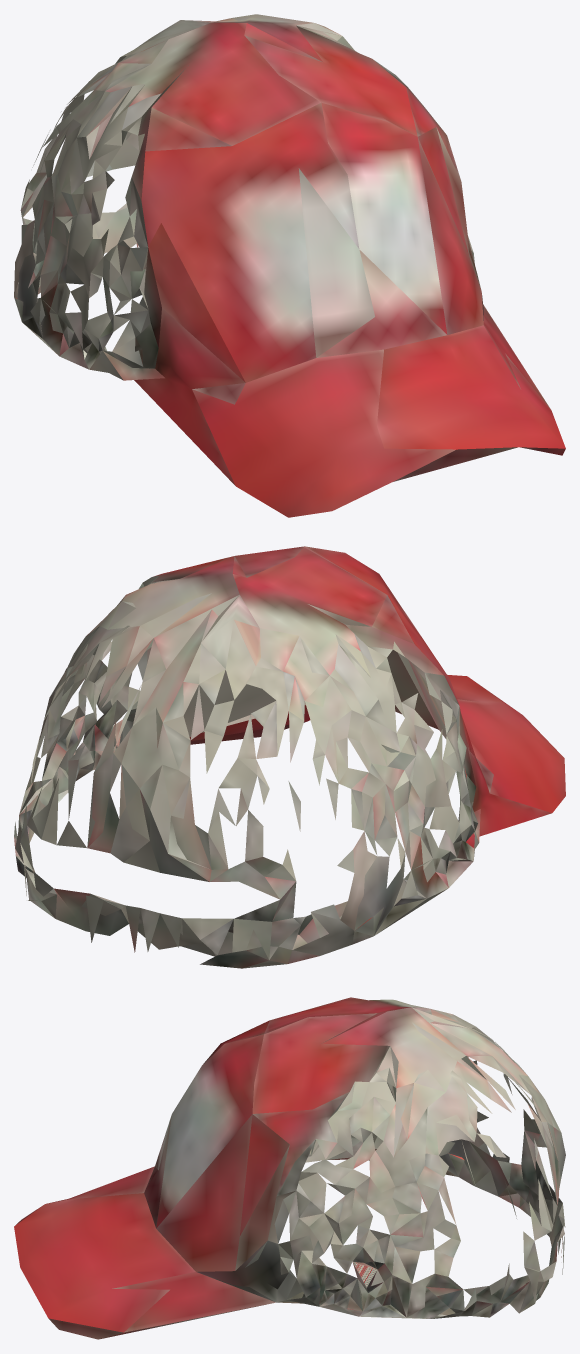
File: truckercap.glb
3 renders of one model, top to bottom at view 1: azimuth 30°, elevation 25°; view 2: azimuth 150°, elevation 25°; view 3: azimuth 270°, elevation 25°, orthographic. The views are drawn at different scales.
Size of the model in its own units: 1.28 by 1.02 by 1.89.
Materials: 1 (1 with a texture image).
